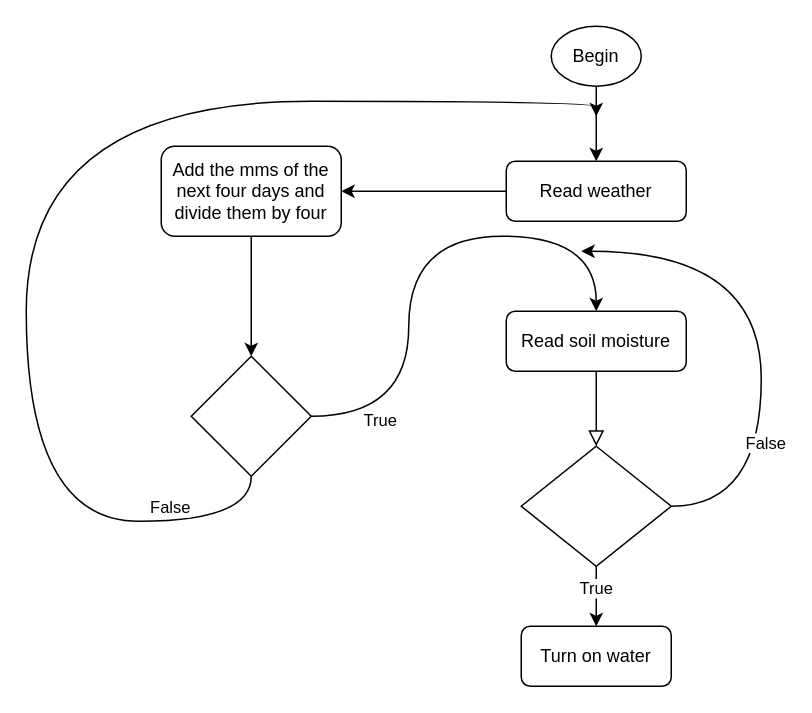
The diagram is 812 pixels wide and 713 high, and some of its shapes have lost their labels. The shapes that lost their labels are listed below. From the top down, each one's centre as x and y in pixels, then its label:
(250,415): answer > 15mm
(595,505): sensor < threshold
